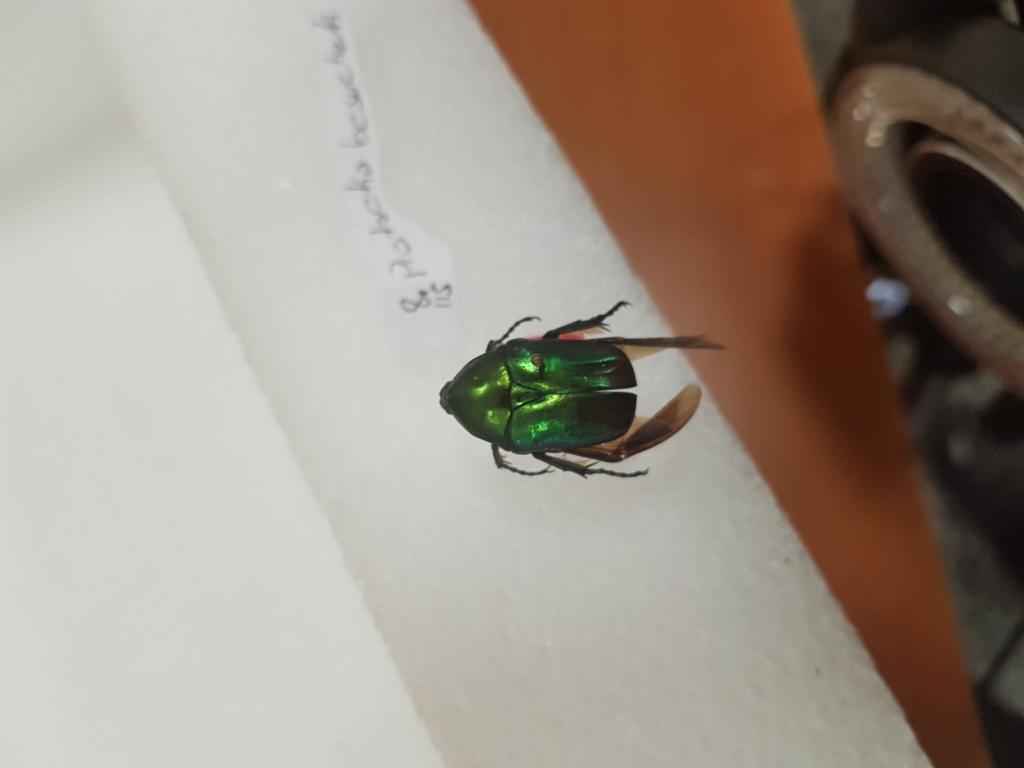Protaetia_besucheti: (423, 287, 749, 492)
